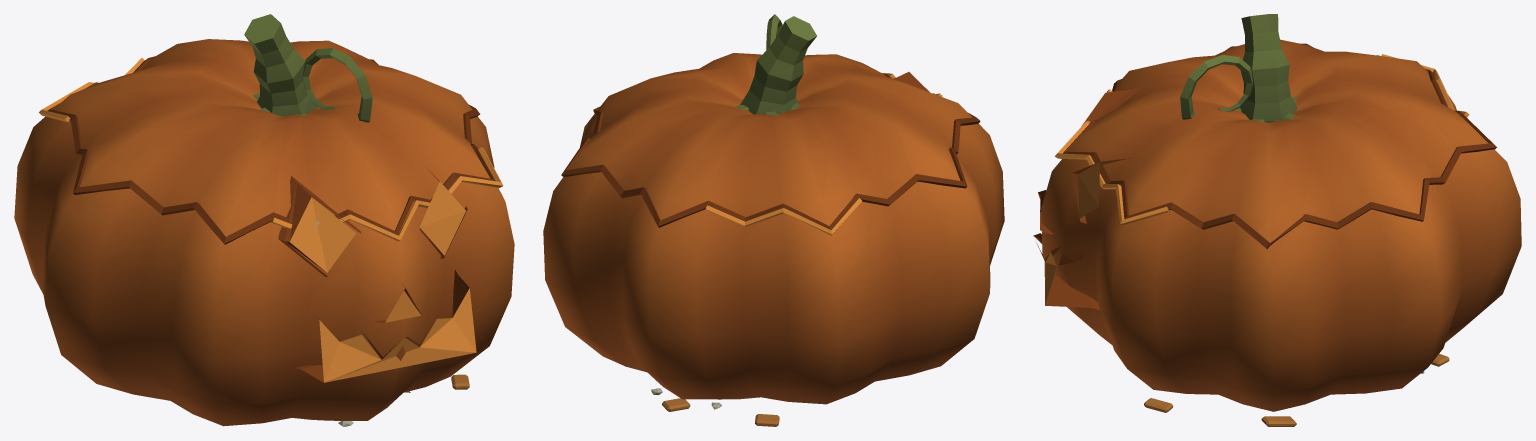
The model's file is jack_o_lantern_01.glb.
3 renders of one model, left to right at view 1: azimuth 30°, elevation 25°; view 2: azimuth 150°, elevation 25°; view 3: azimuth 270°, elevation 25°, orthographic. The views are drawn at different scales.
Parts seen in each view (by area): view 1: jack_o_lantern_01; view 2: jack_o_lantern_01; view 3: jack_o_lantern_01.
Part boxes in pixels (x1=…): jack_o_lantern_01: x1=14, y1=14, x2=514, y2=426; jack_o_lantern_01: x1=543, y1=14, x2=1004, y2=426; jack_o_lantern_01: x1=1033, y1=14, x2=1521, y2=426.
Bounding box in the file's own units: 1.01 × 0.7867 × 1.02.
